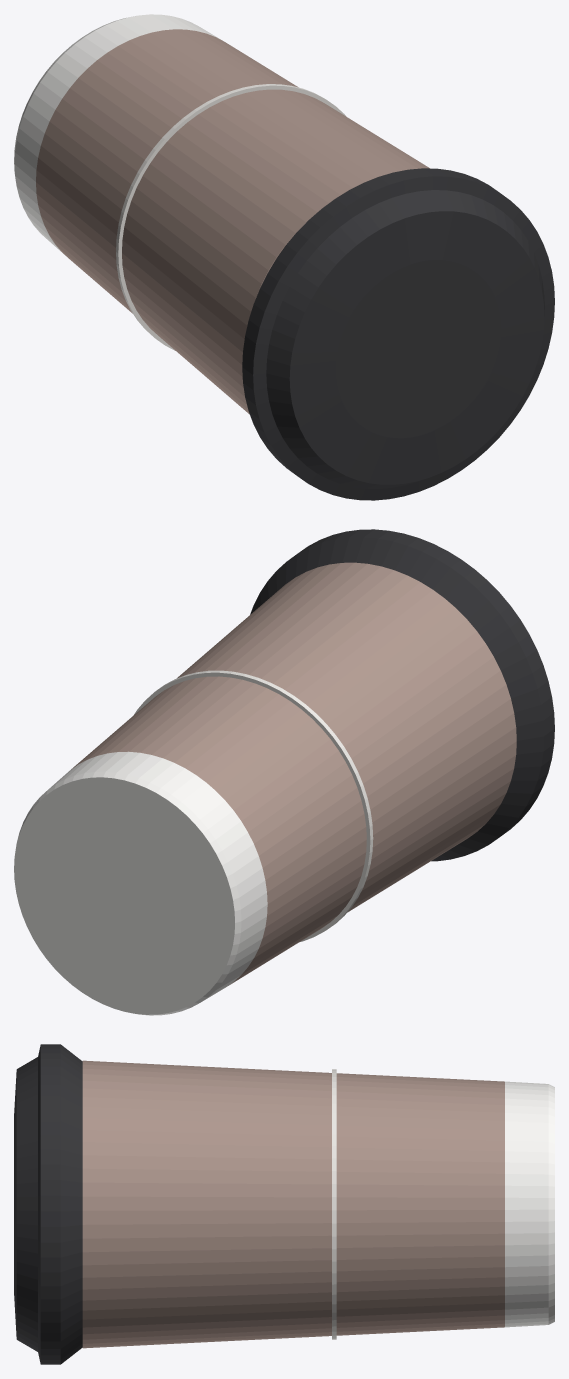
Rendered from cup.parts.glb.
The picture shows the model from 3 angles, top to bottom: view 1: azimuth 30°, elevation 25°; view 2: azimuth 150°, elevation 25°; view 3: azimuth 270°, elevation 25°; orthographic projection. The views are drawn at different scales.
Visible parts, largest first — view 1: lid, cup_body, bottom_band, sleeve_line; view 2: cup_body, bottom_band, lid, sleeve_line; view 3: cup_body, lid, bottom_band, sleeve_line.
Boxes of the visible parts, x1=… form: lid: x1=242, y1=168, x2=554, y2=500; cup_body: x1=36, y1=29, x2=429, y2=414; bottom_band: x1=14, y1=14, x2=220, y2=256; sleeve_line: x1=116, y1=84, x2=346, y2=350; cup_body: x1=71, y1=562, x2=516, y2=985; bottom_band: x1=14, y1=751, x2=267, y2=1015; lid: x1=250, y1=529, x2=554, y2=861; sleeve_line: x1=133, y1=670, x2=373, y2=942; cup_body: x1=82, y1=1060, x2=504, y2=1348; lid: x1=14, y1=1044, x2=82, y2=1364; bottom_band: x1=505, y1=1081, x2=554, y2=1327; sleeve_line: x1=332, y1=1069, x2=336, y2=1339.
Size of the model in its own units: 0.1026 by 0.1026 by 0.173.
